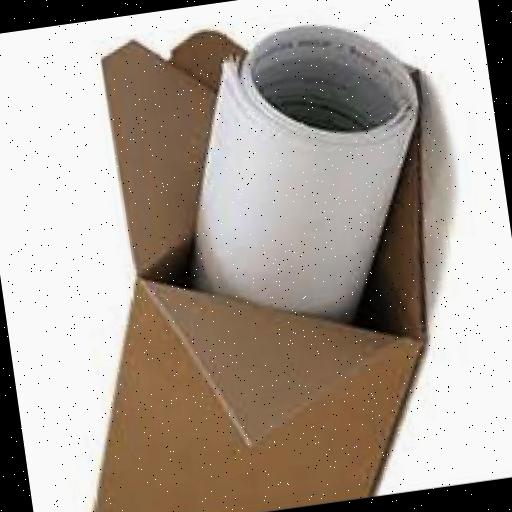cardboard: (21, 7, 474, 512)
metal: (152, 16, 445, 350)
